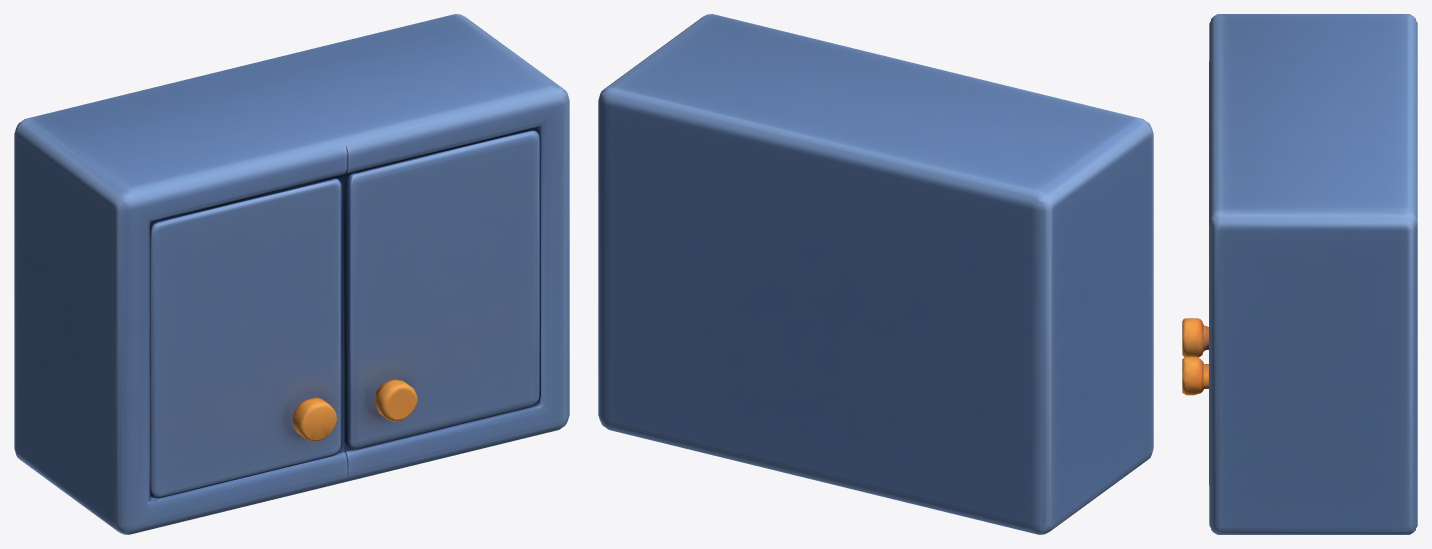
Rendered from wall-cabinet.glb.
3 renders of one model, left to right at view 1: azimuth 30°, elevation 25°; view 2: azimuth 150°, elevation 25°; view 3: azimuth 270°, elevation 25°, orthographic. The views are drawn at different scales.
Parts seen in each view (by area): view 1: 壁柜静态总成; view 2: 壁柜静态总成; view 3: 壁柜静态总成.
Part boxes in pixels (x1,y1,x2,y2): 壁柜静态总成: (14, 14, 569, 534); 壁柜静态总成: (598, 14, 1153, 534); 壁柜静态总成: (1182, 14, 1417, 534).
Bounding box in the file's own units: 1.05 × 0.7636 × 0.501.
1 material, 1 textured.
